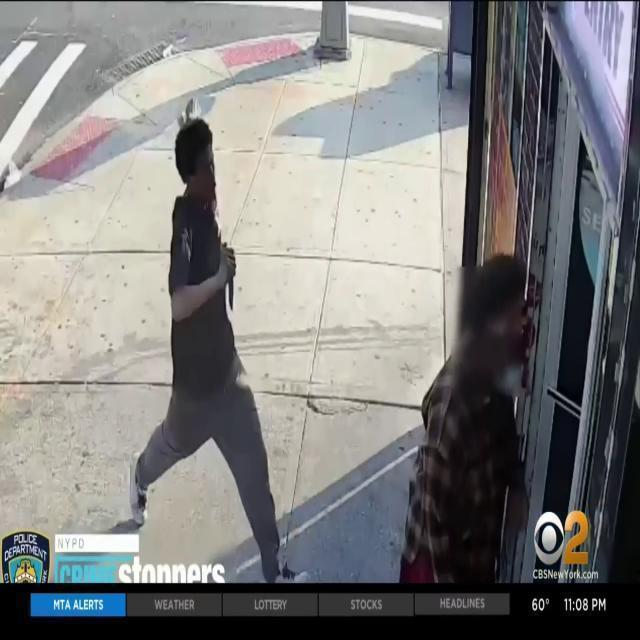Knife: (217, 235, 239, 312)
